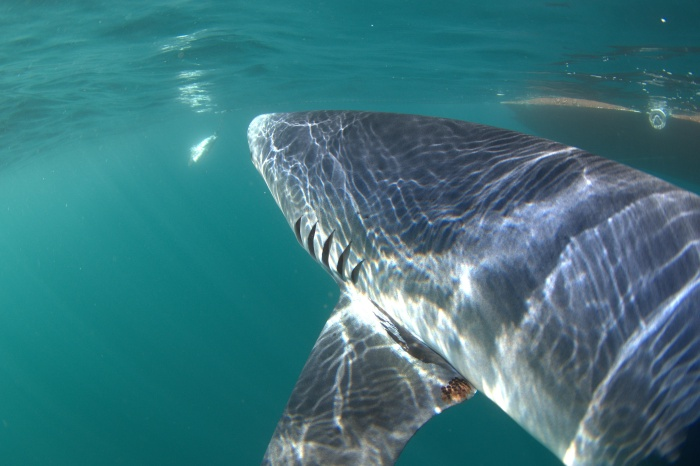Azul: (198, 86, 700, 462)
